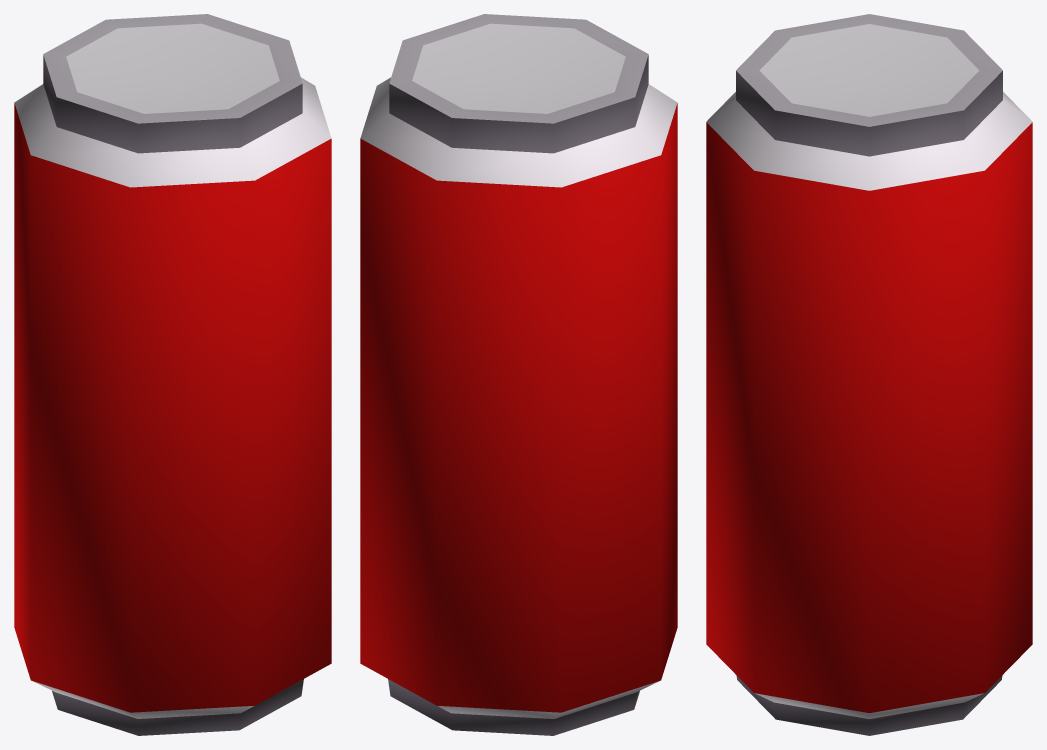
File: Can3.fbx
3 views of the same model, side by side, from view 1: azimuth 30°, elevation 25°; view 2: azimuth 150°, elevation 25°; view 3: azimuth 270°, elevation 25° (orthographic).
Visible parts, largest first — view 1: Can3; view 2: Can3; view 3: Can3.
Boxes of the visible parts, left/top/right/bottom form: Can3: left=14, top=14, right=331, bottom=735; Can3: left=360, top=14, right=677, bottom=735; Can3: left=706, top=14, right=1032, bottom=735.
Bounding box in the file's own units: 7.48 × 15.41 × 7.48.
